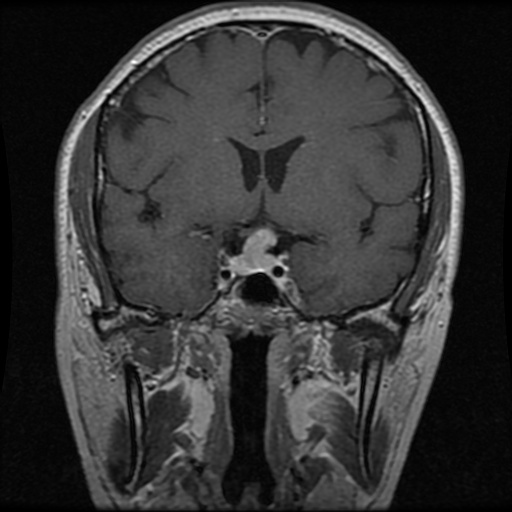pituitary: (230, 228, 277, 274)
